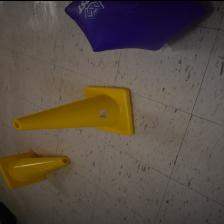cone: (14, 85, 134, 134), (0, 150, 70, 188)
cube: (64, 0, 207, 52)
